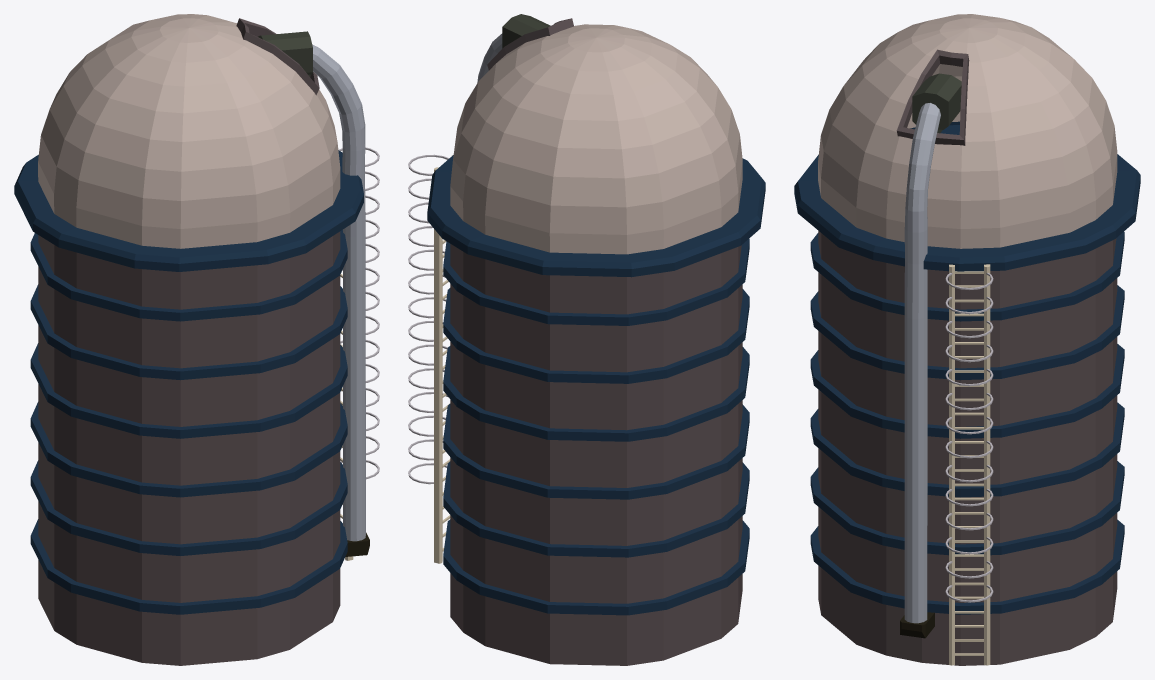
Rendered from silo.glb.
3 renders of one model, left to right at view 1: azimuth 30°, elevation 25°; view 2: azimuth 150°, elevation 25°; view 3: azimuth 270°, elevation 25°, orthographic.
Visible parts, largest first — view 1: silo; view 2: silo; view 3: silo.
Part boxes in pixels (left/top/right/bottom): silo: left=14, top=14, right=379, bottom=665; silo: left=408, top=14, right=765, bottom=665; silo: left=794, top=14, right=1140, bottom=665.
Bounding box in the file's own units: 16.38 × 26.52 × 14.49.
1 material, 1 textured.
